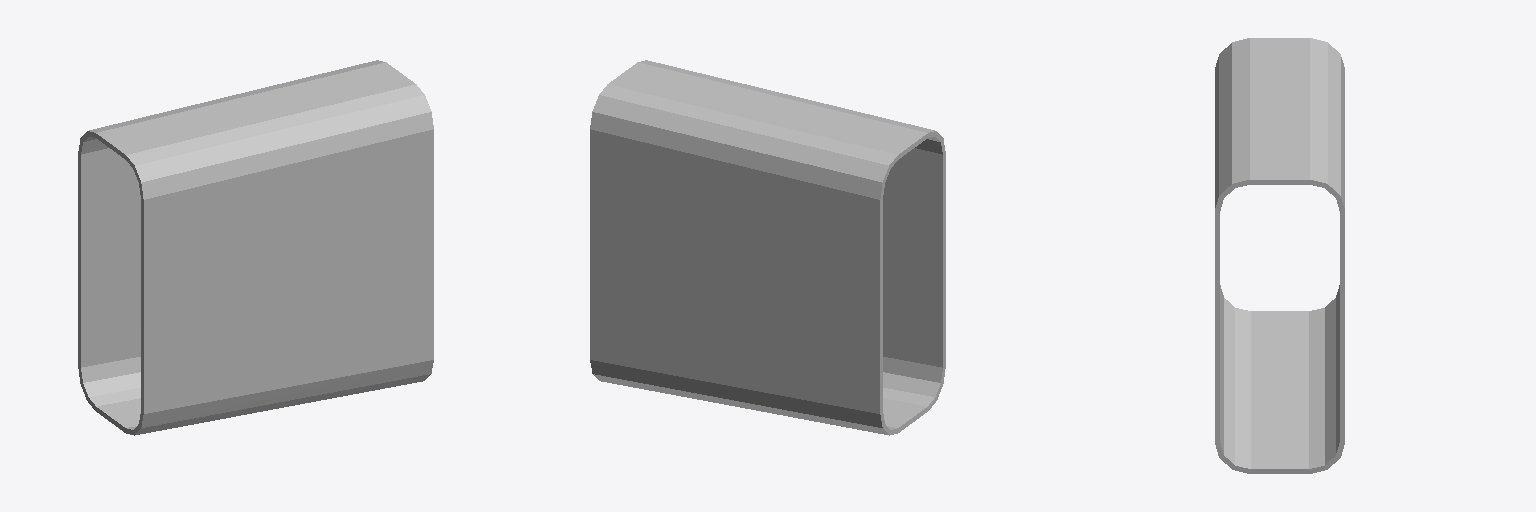
File: blade.obj
The picture shows the model from 3 angles: view 1: azimuth 30°, elevation 25°; view 2: azimuth 150°, elevation 25°; view 3: azimuth 270°, elevation 25°; orthographic projection.
Parts seen in each view (by area): view 1: Cube.005; view 2: Cube.005; view 3: Cube.005.
Boxes of the visible parts, box(x1,y1,x2,y2) form: Cube.005: box(78, 60, 433, 435); Cube.005: box(590, 60, 945, 435); Cube.005: box(1215, 38, 1344, 473).
Size of the model in its own units: 34.91 by 33.82 by 13.62.